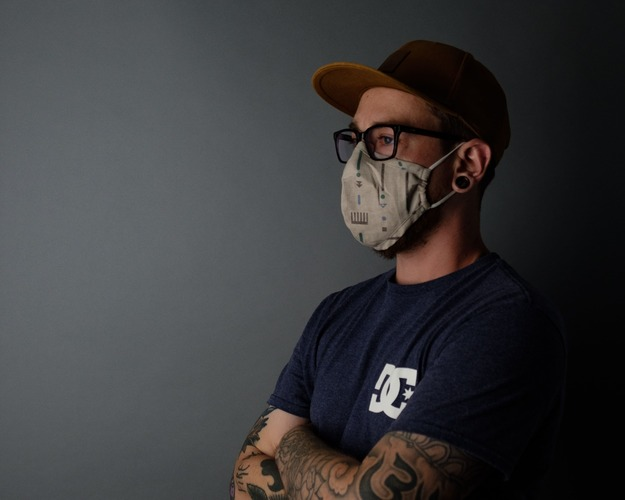with_mask: (345, 99, 438, 257)
